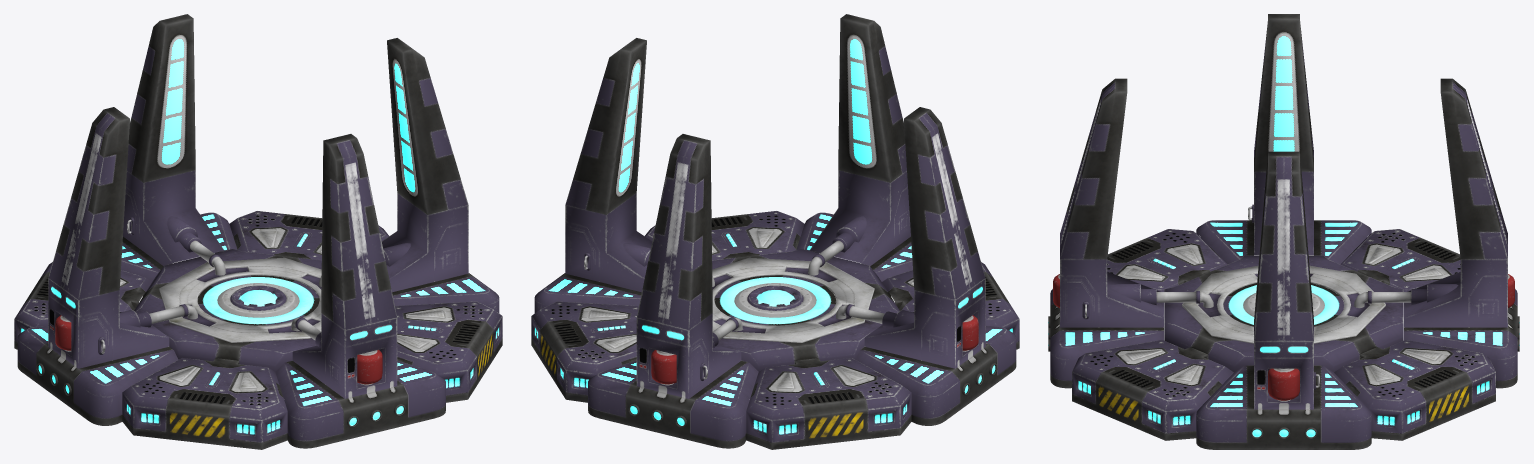
The model's file is map.glb.
The picture shows the model from 3 angles, left to right: view 1: azimuth 30°, elevation 25°; view 2: azimuth 150°, elevation 25°; view 3: azimuth 270°, elevation 25°; orthographic projection.
Parts seen in each view (by area): view 1: Teleport; view 2: Teleport; view 3: Teleport.
Boxes of the visible parts, x1,y1,x2,y2 form: Teleport: (14,14,502,449); Teleport: (531,14,1019,449); Teleport: (1048,14,1519,449).
Size of the model in its own units: 403 by 250 by 403.
Materials: 1 (1 with a texture image).
